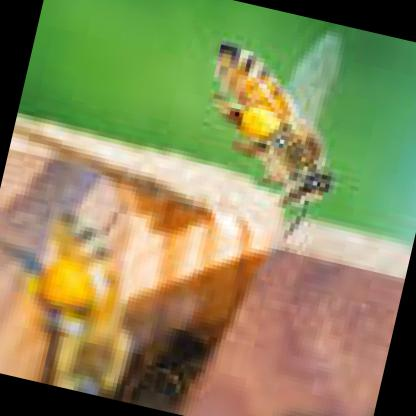other: (173, 10, 374, 248)
